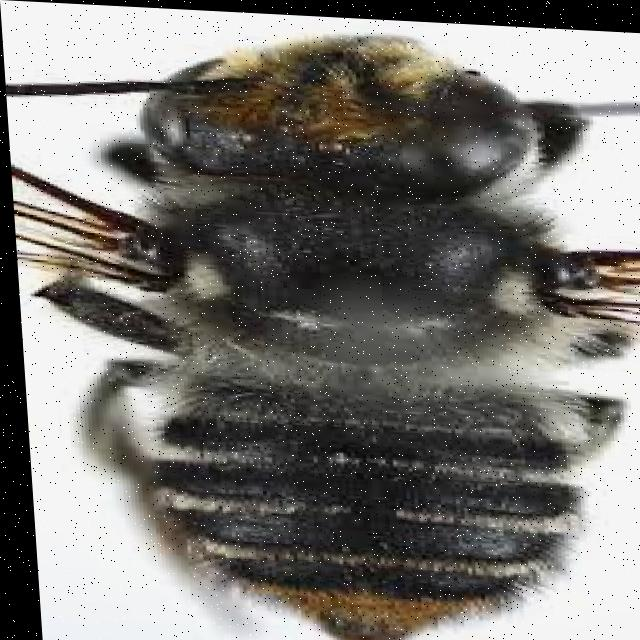Braunsapis: (9, 2, 640, 640)
